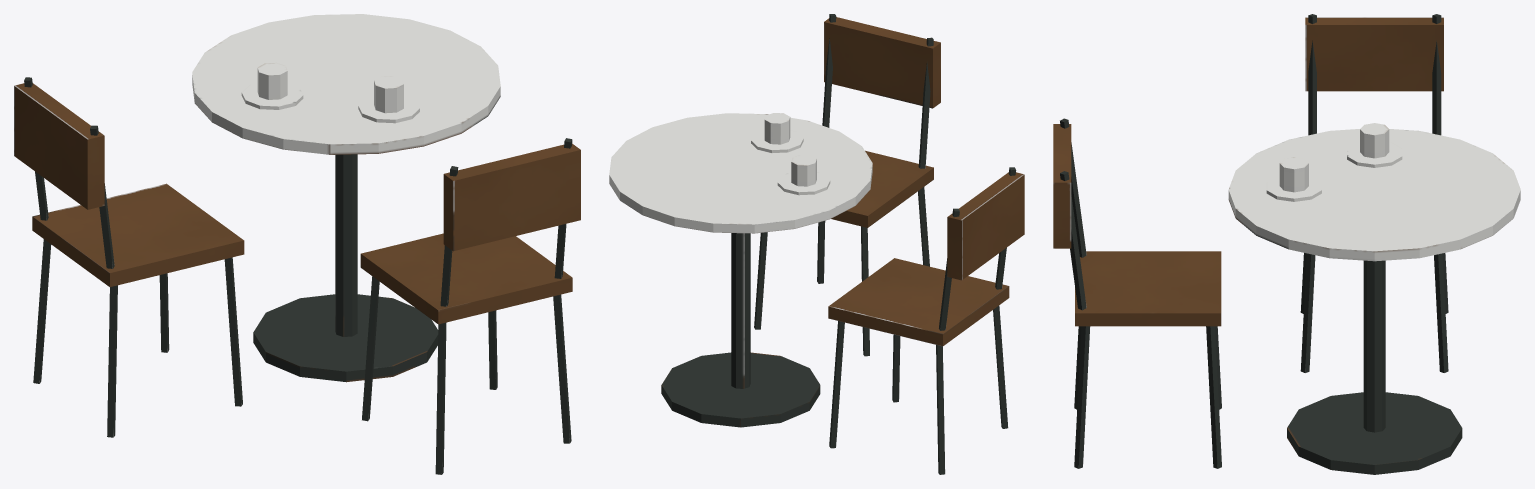
Rendered from stolek_kavarna_a0ef44a9.glb.
3 views of the same model, side by side, from view 1: azimuth 30°, elevation 25°; view 2: azimuth 150°, elevation 25°; view 3: azimuth 270°, elevation 25° (orthographic). The views are drawn at different scales.
Visible parts, largest first — view 1: dum; view 2: dum; view 3: dum.
Part boxes in pixels (x1=…): dum: x1=14, y1=14, x2=580, y2=474; dum: x1=609, y1=14, x2=1024, y2=474; dum: x1=1053, y1=14, x2=1520, y2=474.
Size of the model in its own units: 1.28 by 0.8798 by 1.28.
Materials: 1 (1 with a texture image).
